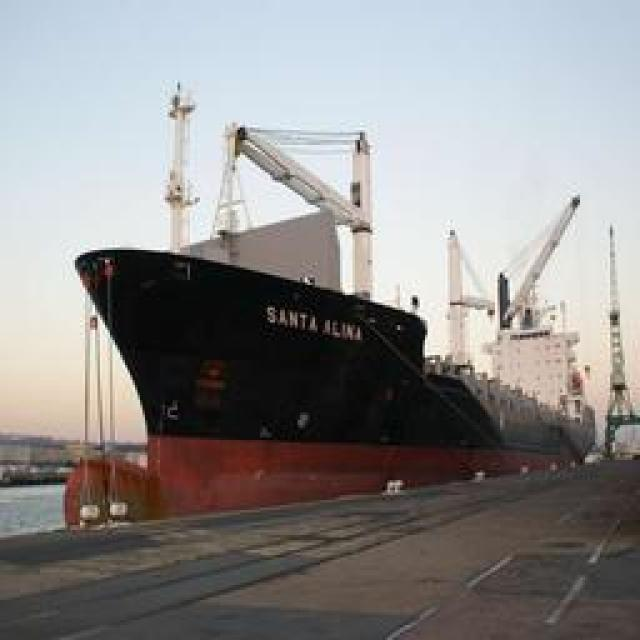Ship: (67, 68, 610, 517)
